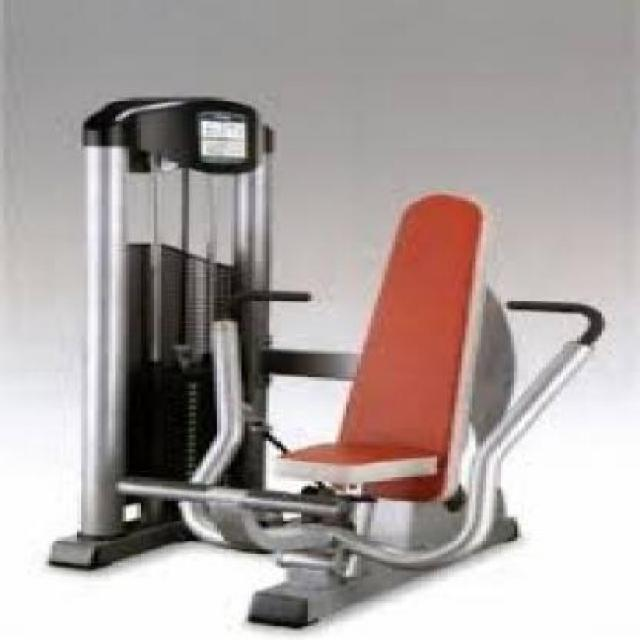Chest Press machine: (40, 84, 612, 630)
